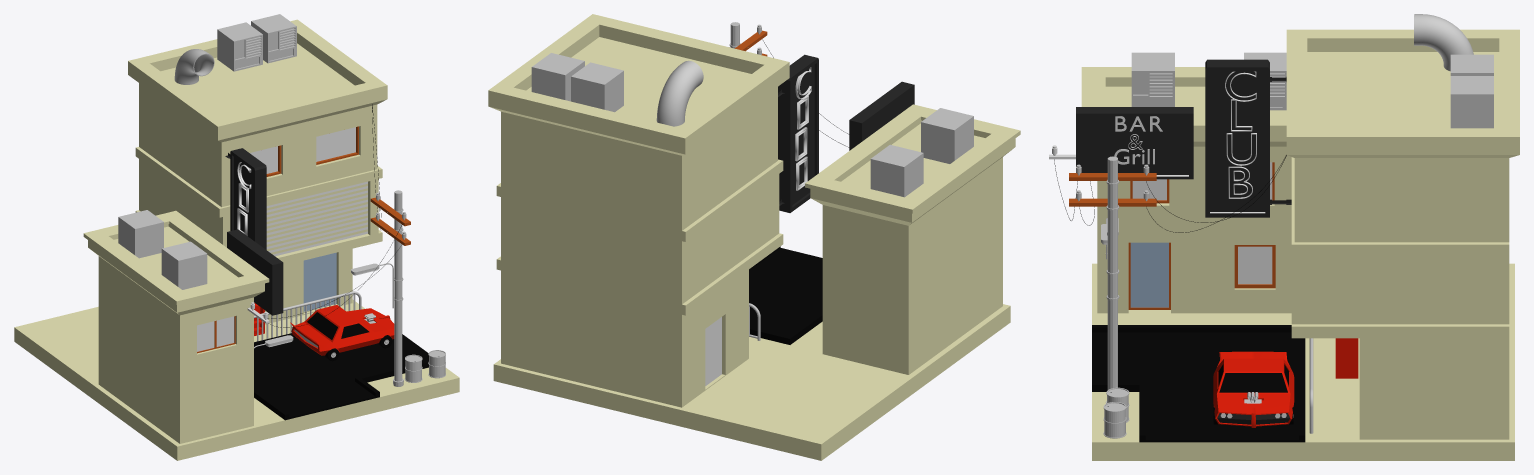
The model's file is LowPolyStreet.fbx.
3 renders of one model, left to right at view 1: azimuth 30°, elevation 25°; view 2: azimuth 150°, elevation 25°; view 3: azimuth 270°, elevation 25°, orthographic. The views are drawn at different scales.
Visible parts, largest first — view 1: BUILDING-TWO, BUILDING-ONE, FLOOR, ROAD, CAR-BODY, MOTEL-SIGN, Cube.001, Cube.002, Cube.004, Cube.005, BUILDING-TWO-DOOR, POLE (+6 smaller); view 2: BUILDING-TWO, BUILDING-ONE, FLOOR, ROAD, MOTEL-SIGN, Cube.004, Cube.005, Cube.002, Cube.001, Cylinder.002, Cube.003, BUILDING-TWO-DOOR-TWO; view 3: BUILDING-TWO, BUILDING-ONE, FLOOR, ROAD, MOTEL-SIGN, Cube.001, CAR-BODY, BUILDING-ONE-DOOR, POLE, Cube.004, Cube.003, Cylinder.002 (+6 smaller).
Part boxes in pixels (box(x1,y1,x2,y2)): BUILDING-TWO: box(128, 19, 387, 324); BUILDING-ONE: box(83, 210, 269, 443); FLOOR: box(14, 299, 459, 460); ROAD: box(254, 333, 428, 420); CAR-BODY: box(290, 305, 394, 355); MOTEL-SIGN: box(225, 148, 266, 249); Cube.001: box(227, 229, 283, 315); Cube.002: box(217, 22, 262, 71); Cube.004: box(161, 241, 207, 289); Cube.005: box(118, 210, 163, 258); BUILDING-TWO-DOOR: box(303, 252, 336, 311); POLE: box(393, 190, 403, 386); BUILDING-TWO: box(488, 14, 789, 407); BUILDING-ONE: box(805, 104, 1020, 374); FLOOR: box(493, 304, 1010, 460); ROAD: box(749, 246, 822, 344); MOTEL-SIGN: box(778, 54, 818, 212); Cube.004: box(921, 108, 973, 163); Cube.005: box(870, 144, 923, 197); Cube.002: box(571, 62, 623, 112); Cube.001: box(849, 81, 914, 150); Cylinder.002: box(656, 60, 703, 126); Cube.003: box(531, 53, 584, 101); BUILDING-TWO-DOOR-TWO: box(705, 317, 721, 385); BUILDING-TWO: box(1286, 29, 1519, 439); BUILDING-ONE: box(1081, 67, 1291, 313); FLOOR: box(1092, 263, 1514, 460); ROAD: box(1092, 325, 1305, 442); MOTEL-SIGN: box(1205, 59, 1291, 217); Cube.001: box(1076, 107, 1193, 179); CAR-BODY: box(1213, 351, 1294, 427); BUILDING-ONE-DOOR: box(1130, 242, 1168, 307); POLE: box(1106, 156, 1117, 403); Cube.004: box(1131, 52, 1174, 106); Cube.003: box(1450, 76, 1493, 128); Cylinder.002: box(1414, 14, 1473, 71).
Size of what is drawn, in the model's own units: 188 by 173 by 204.
